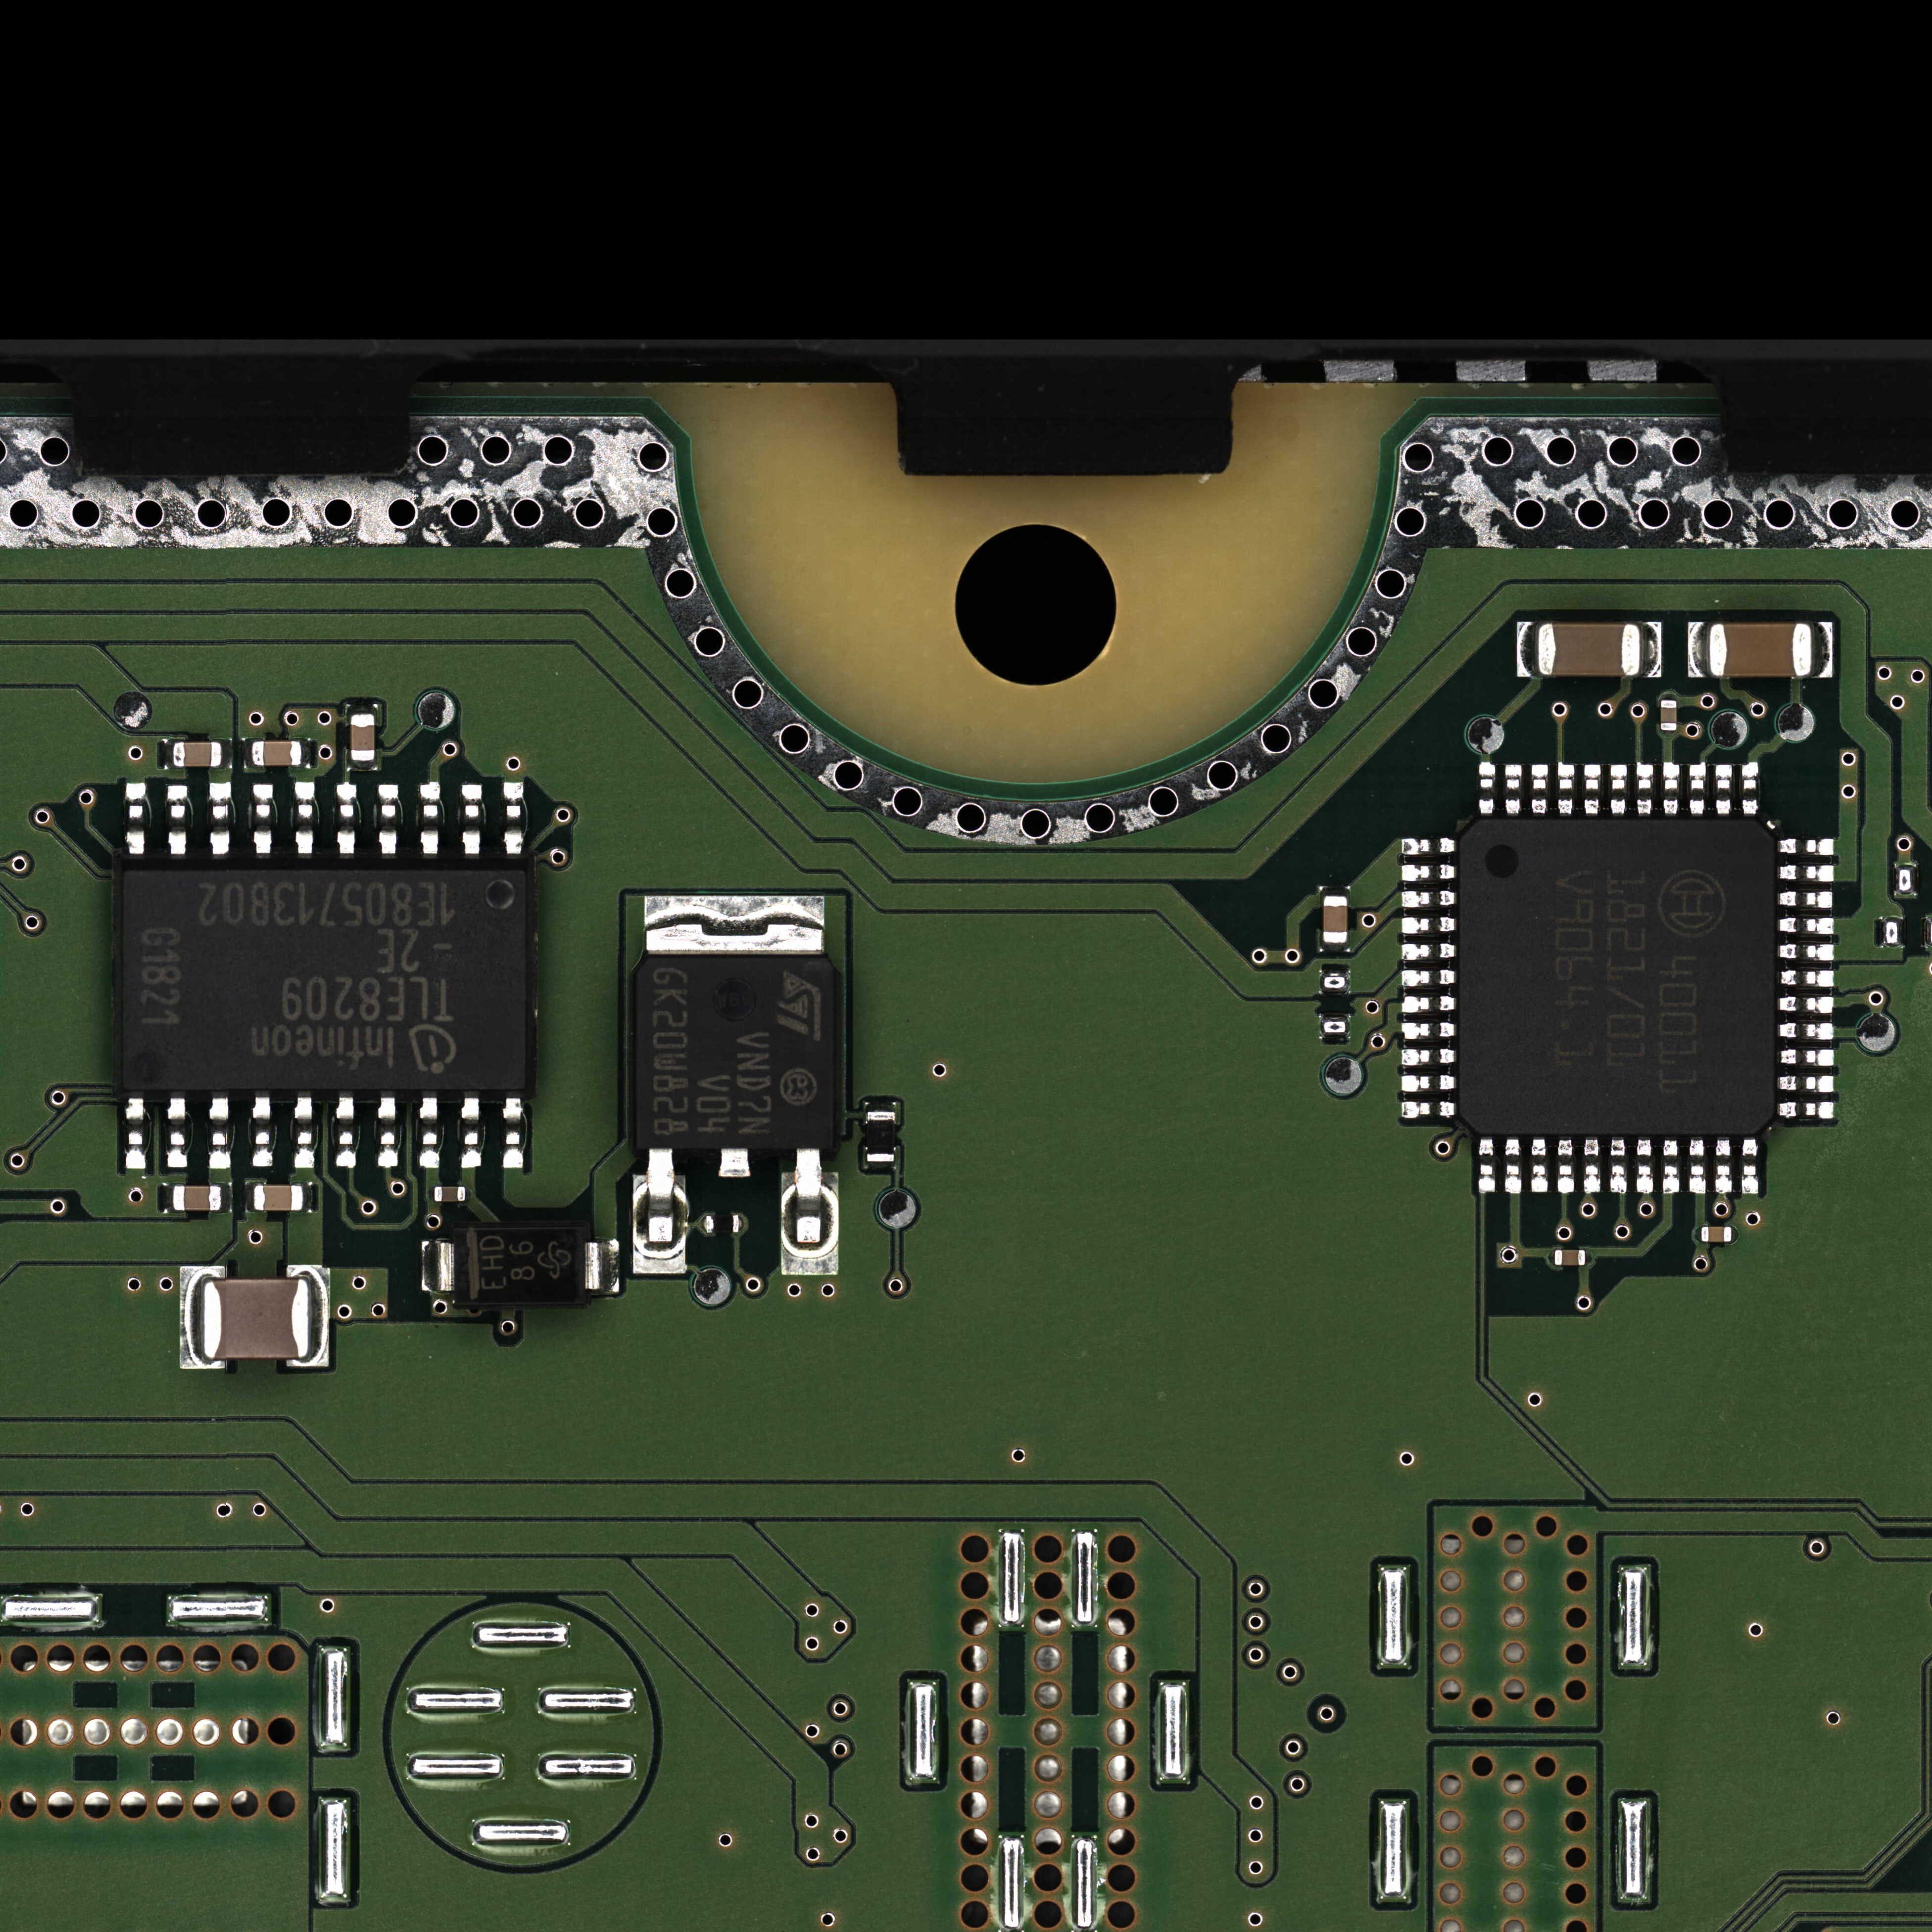Package: (1456, 816, 1776, 1138), (119, 870, 529, 1092), (635, 955, 837, 1148), (455, 1226, 586, 1304), (203, 1279, 310, 1359), (1709, 623, 1812, 678), (1537, 625, 1640, 676), (867, 1111, 895, 1161), (253, 1185, 303, 1210), (1323, 895, 1348, 943), (173, 741, 221, 766), (173, 1185, 221, 1210), (253, 741, 301, 766), (350, 715, 375, 761), (706, 1215, 740, 1233), (1555, 1249, 1585, 1265), (1702, 1226, 1732, 1242), (1661, 701, 1677, 731), (435, 1187, 465, 1201)
Solder: (646, 895, 824, 952), (780, 1150, 839, 1276), (633, 1150, 686, 1274), (180, 1265, 203, 1369), (310, 1269, 329, 1368), (209, 782, 232, 858), (421, 1240, 455, 1292), (587, 1240, 619, 1293), (126, 782, 147, 858), (419, 782, 441, 856), (419, 1095, 441, 1169), (294, 782, 315, 856), (336, 782, 357, 856), (209, 1097, 230, 1169), (294, 1097, 315, 1169), (502, 1097, 524, 1169), (126, 1097, 147, 1169), (253, 784, 274, 856), (460, 1097, 481, 1169), (251, 1095, 272, 1168), (166, 1097, 188, 1168), (377, 1097, 398, 1168), (504, 782, 524, 856), (168, 784, 188, 858), (336, 1097, 356, 1169), (462, 784, 481, 856), (379, 784, 398, 856), (1688, 621, 1709, 678), (1813, 621, 1833, 678), (1516, 621, 1536, 678), (1642, 621, 1661, 678), (1778, 863, 1835, 883), (1778, 1100, 1835, 1120), (1778, 890, 1833, 909), (1401, 1047, 1456, 1067), (1778, 916, 1835, 934), (1778, 1023, 1835, 1040), (1557, 1138, 1575, 1194), (1714, 1138, 1732, 1194), (1778, 839, 1835, 856), (1778, 943, 1835, 961), (1778, 996, 1835, 1014), (1583, 1138, 1601, 1194), (1637, 1138, 1654, 1194), (1741, 1138, 1759, 1194), (1741, 761, 1759, 817), (1780, 970, 1835, 987), (1663, 763, 1681, 817), (1401, 916, 1456, 934), (1401, 863, 1456, 881), (1401, 970, 1456, 987), (1401, 1021, 1456, 1039), (1401, 837, 1456, 855), (1401, 890, 1456, 908), (1780, 1049, 1835, 1067), (1401, 1100, 1456, 1118), (1401, 996, 1456, 1014), (1530, 1138, 1548, 1192), (1401, 943, 1456, 961), (1714, 764, 1732, 817), (1401, 1074, 1454, 1092), (1557, 763, 1575, 816), (1637, 763, 1654, 816), (1583, 764, 1601, 817), (1610, 764, 1628, 816), (1530, 764, 1548, 816), (718, 1148, 750, 1177), (1663, 1138, 1679, 1194), (1610, 1138, 1626, 1194), (1506, 1138, 1522, 1194), (1479, 1138, 1495, 1194), (1690, 1138, 1706, 1194), (1778, 1076, 1833, 1092), (1690, 763, 1706, 817), (1479, 763, 1495, 816), (1506, 764, 1522, 816), (221, 1182, 232, 1214), (221, 738, 232, 770), (347, 761, 377, 771), (347, 704, 379, 713), (242, 738, 251, 770), (1320, 886, 1350, 895), (1320, 943, 1350, 952), (865, 1102, 895, 1111), (301, 738, 310, 768), (165, 740, 173, 770), (165, 1184, 173, 1212), (304, 1182, 311, 1214), (246, 1182, 253, 1214), (865, 1162, 895, 1169), (1546, 1249, 1555, 1265), (1732, 1226, 1739, 1244), (1585, 1249, 1592, 1265), (1661, 694, 1677, 701), (1661, 731, 1675, 738), (465, 1187, 472, 1201), (428, 1187, 435, 1201), (740, 1215, 745, 1233), (701, 1215, 706, 1233), (1695, 1226, 1700, 1242)
